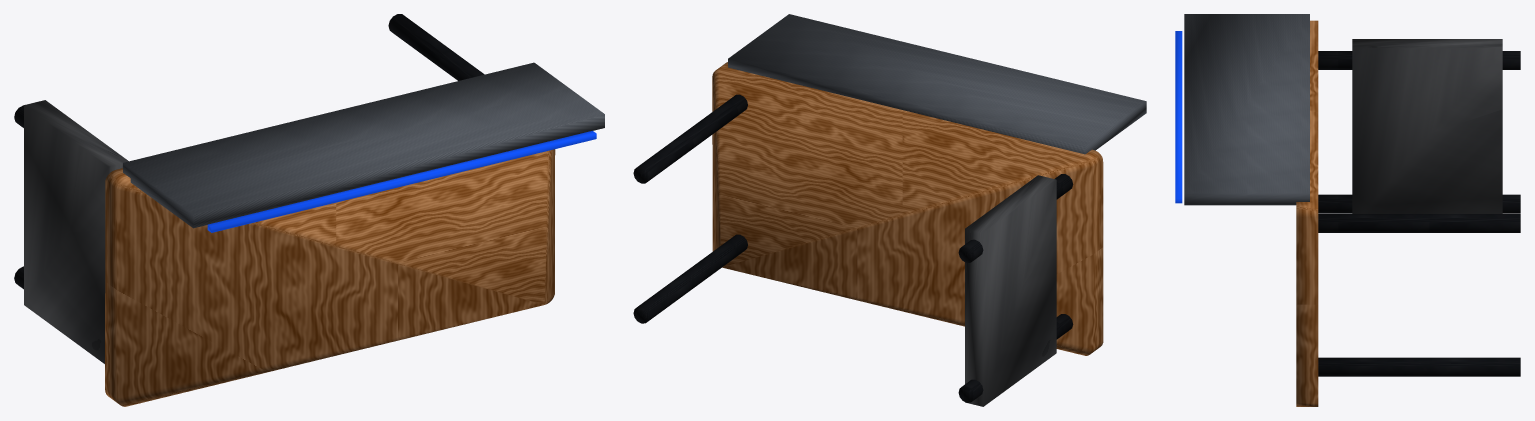
The model's file is DESK_STANDARD_001.glb.
The picture shows the model from 3 angles, left to right: view 1: azimuth 30°, elevation 25°; view 2: azimuth 150°, elevation 25°; view 3: azimuth 270°, elevation 25°; orthographic projection. The views are drawn at different scales.
Parts seen in each view (by area): view 1: wood_top_000, acoustic_partition_006, drawer_005, thin_blue_trim_007, leg_004; view 2: wood_top_000, acoustic_partition_006, drawer_005, leg_003, leg_004, leg_001, leg_002; view 3: drawer_005, acoustic_partition_006, wood_top_000, leg_003, leg_004, thin_blue_trim_007, leg_001, leg_002.
Part boxes in pixels (<box>): wood_top_000: <box>105,149,555,406</box>; acoustic_partition_006: <box>123,62,604,228</box>; drawer_005: <box>24,100,128,363</box>; thin_blue_trim_007: <box>207,130,596,232</box>; leg_004: <box>388,14,484,80</box>; wood_top_000: <box>712,62,1103,355</box>; acoustic_partition_006: <box>728,14,1146,154</box>; drawer_005: <box>965,175,1056,406</box>; leg_003: <box>633,234,747,323</box>; leg_004: <box>633,94,747,183</box>; leg_001: <box>958,314,1073,402</box>; leg_002: <box>958,174,1073,262</box>; drawer_005: <box>1352,39,1502,213</box>; acoustic_partition_006: <box>1184,14,1309,205</box>; wood_top_000: <box>1296,20,1318,406</box>; leg_003: <box>1318,357,1520,376</box>; leg_004: <box>1318,214,1520,232</box>; thin_blue_trim_007: <box>1175,31,1182,203</box>; leg_001: <box>1318,194,1520,213</box>; leg_002: <box>1318,51,1520,69</box>.
Bounding box in the file's own units: 1.65 × 0.855 × 1.26.
5 materials, 5 textured.
